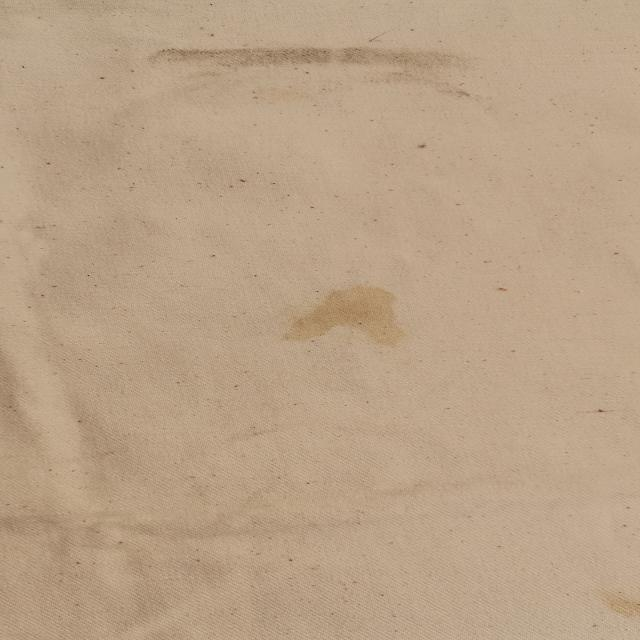taaaches: (109, 27, 496, 90), (256, 267, 428, 360)
